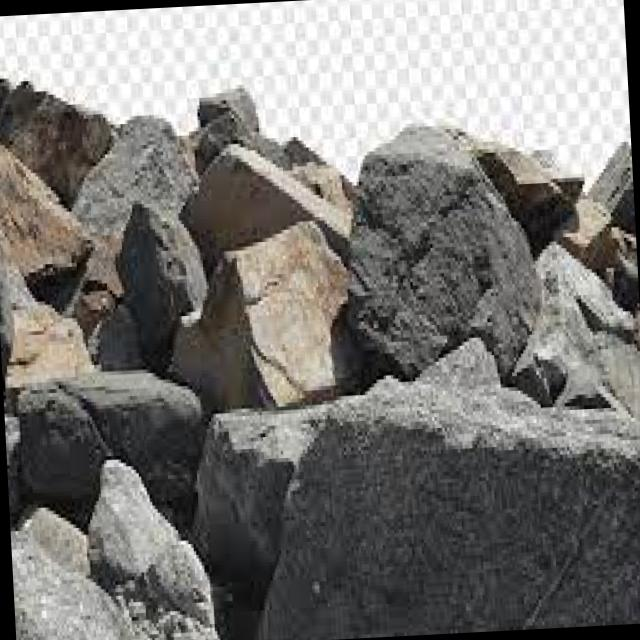rocks: (0, 78, 640, 640)
stone: (258, 379, 640, 640), (350, 127, 540, 380), (174, 222, 355, 407), (517, 241, 640, 412), (183, 144, 350, 267), (66, 373, 200, 522), (118, 201, 207, 369), (11, 531, 137, 640), (0, 142, 95, 285), (23, 389, 113, 509)
